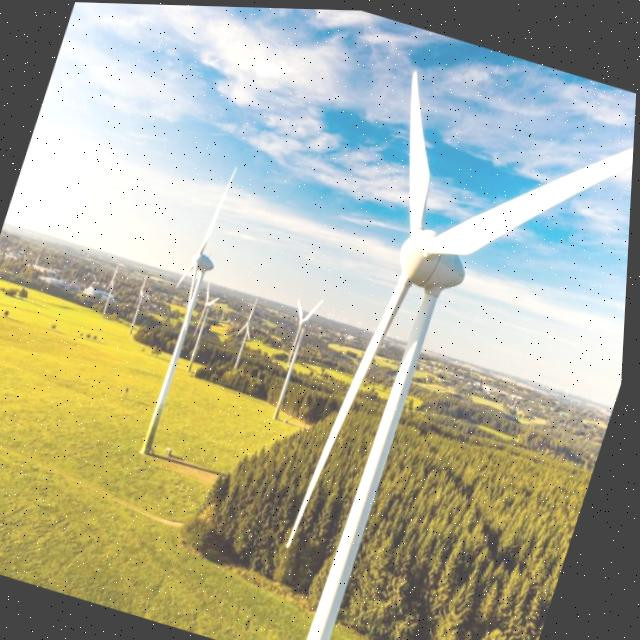solid-blade: (292, 269, 413, 544), (428, 142, 635, 251), (411, 69, 431, 228)
